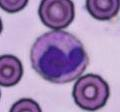N: (30, 31, 88, 83)
